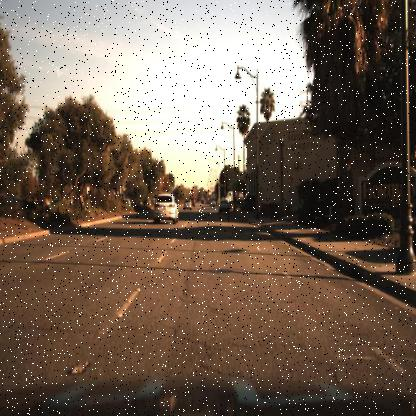car: (147, 182, 182, 232), (216, 193, 234, 216), (178, 193, 196, 214), (119, 196, 132, 214)
truck: (224, 188, 247, 212)
